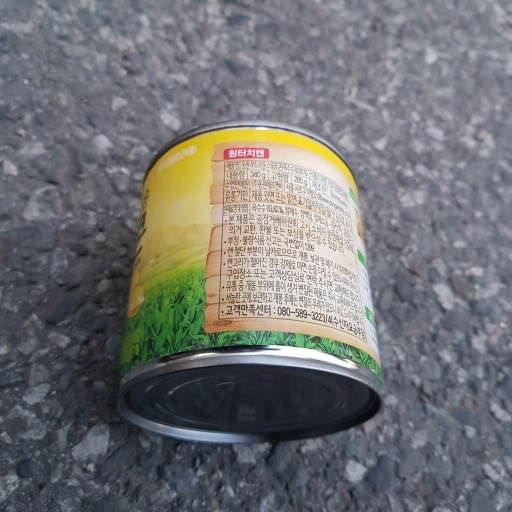Metal_1: (114, 119, 382, 446)
